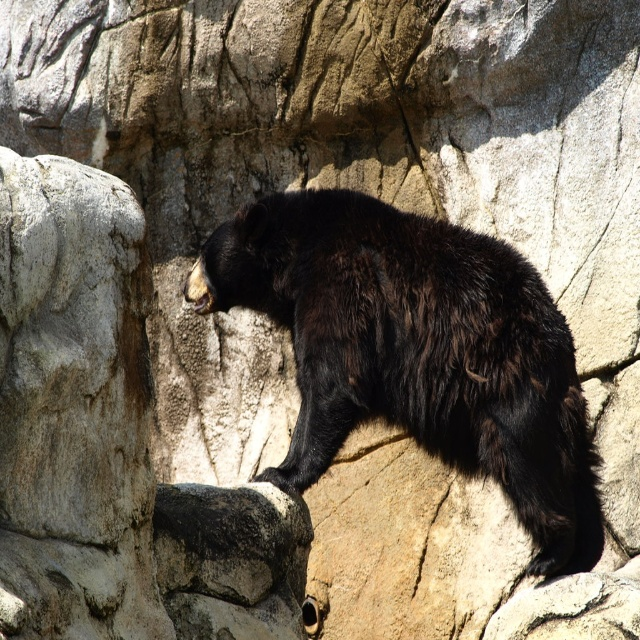Bear: (181, 186, 608, 584)
